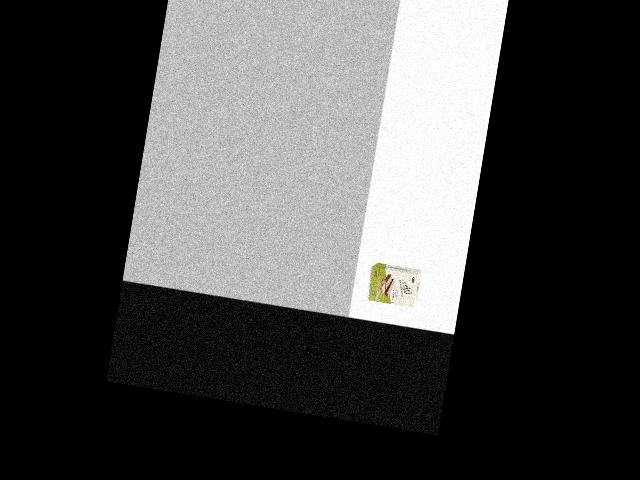chocolate: (365, 258, 422, 309)
